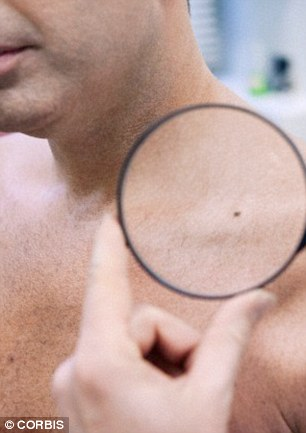mole: (228, 206, 245, 221)
